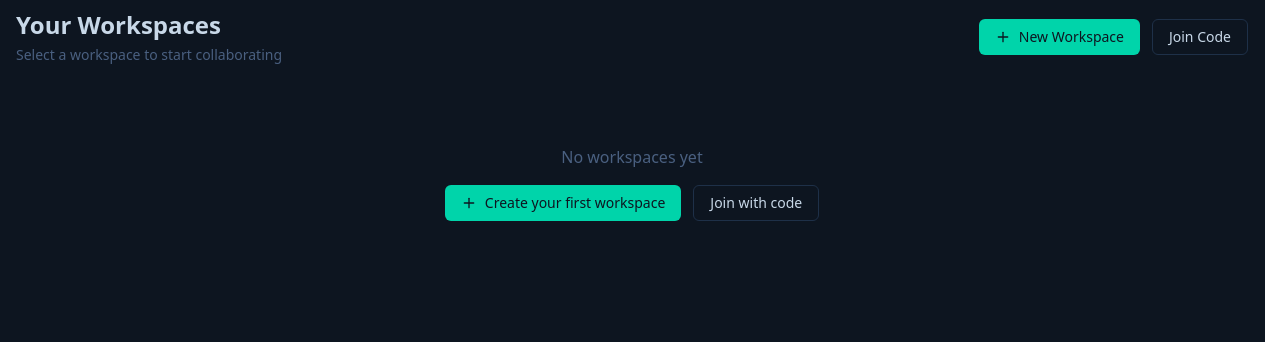
WorkspacesPage › should update workspace list after successful creation
Check: the text "No workspaces yet" is shown, box [561,146,703,168]
Click the button "New Workspace": (1059, 37) [979,19,1140,55]
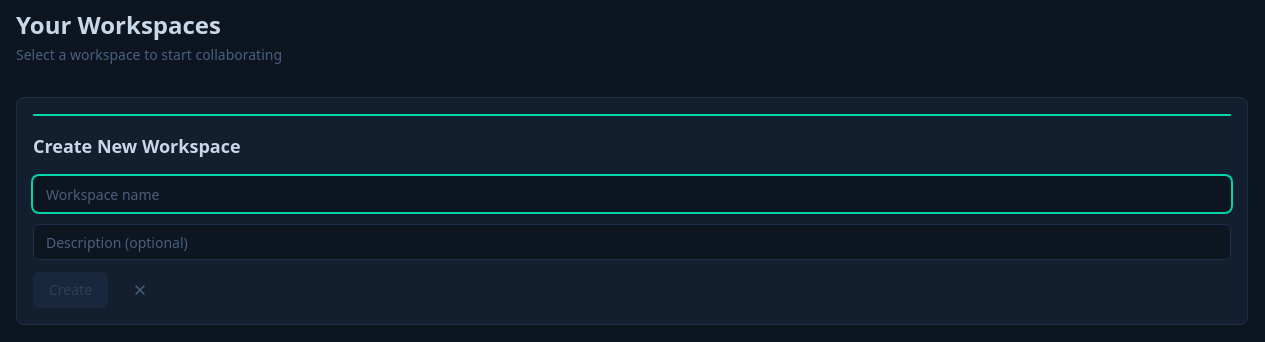
Check: the heading "Create New Workspace" is shown, box [33,134,240,158]
In the field with placeholder "Workspace name": (632, 194) [33,176,1231,212], type "Brand New Workspace"
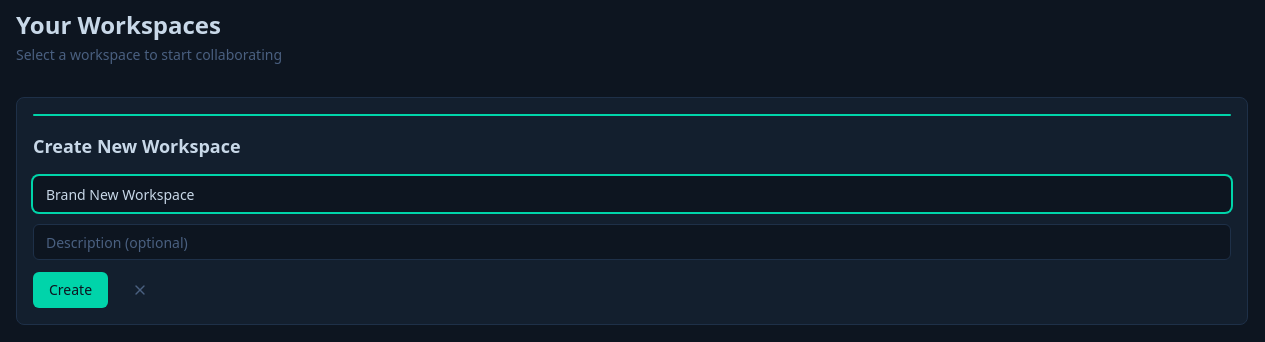
Click the button "Create": (71, 290) [33,272,108,308]
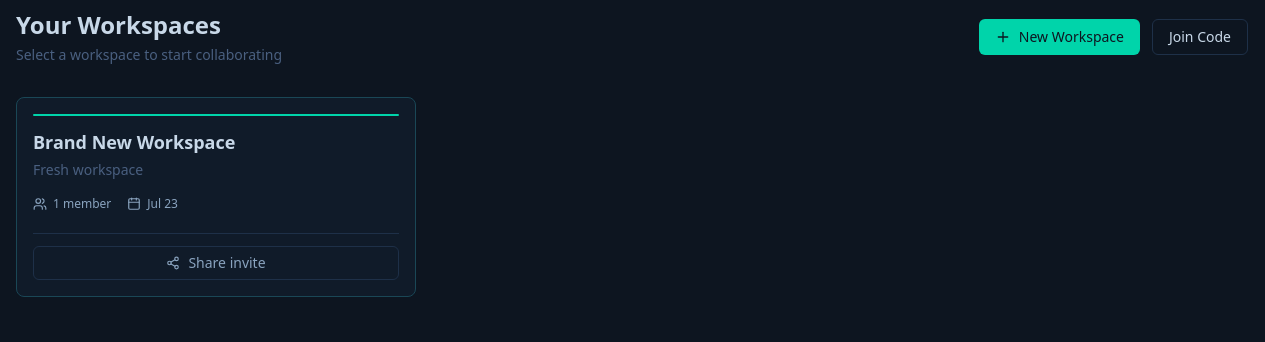
Check: the heading "Brand New Workspace" is shown, box [33,130,235,154]
